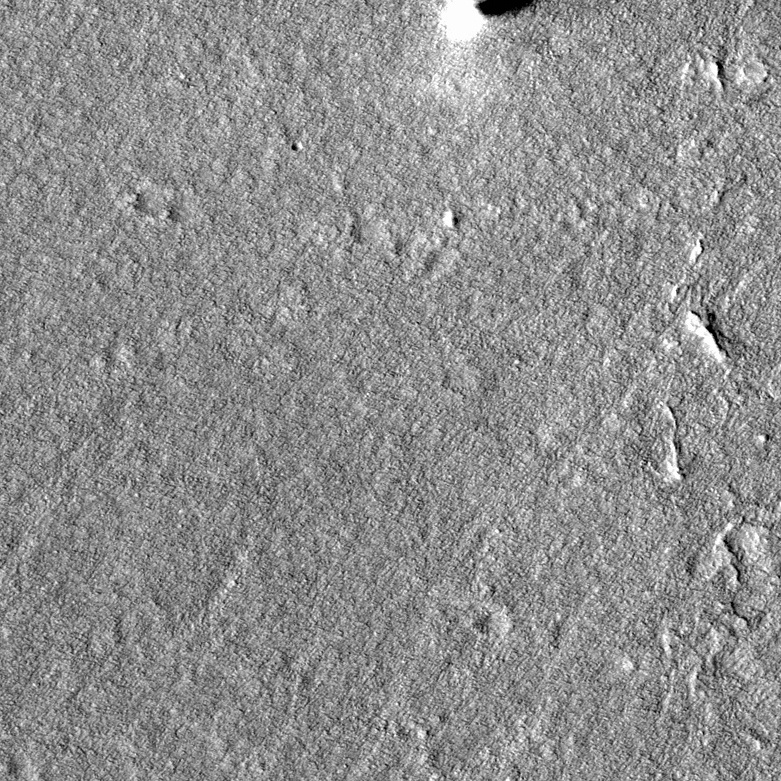dust_devil: (434, 1, 541, 45)
